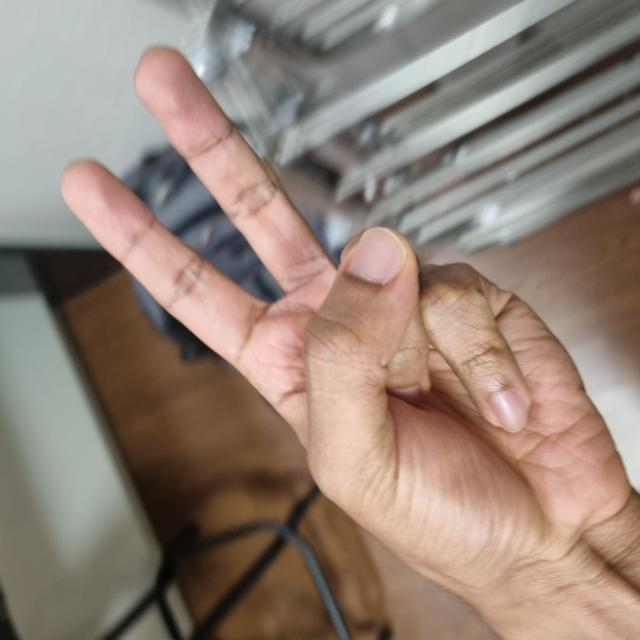Scissors: (3, 61, 595, 639)
